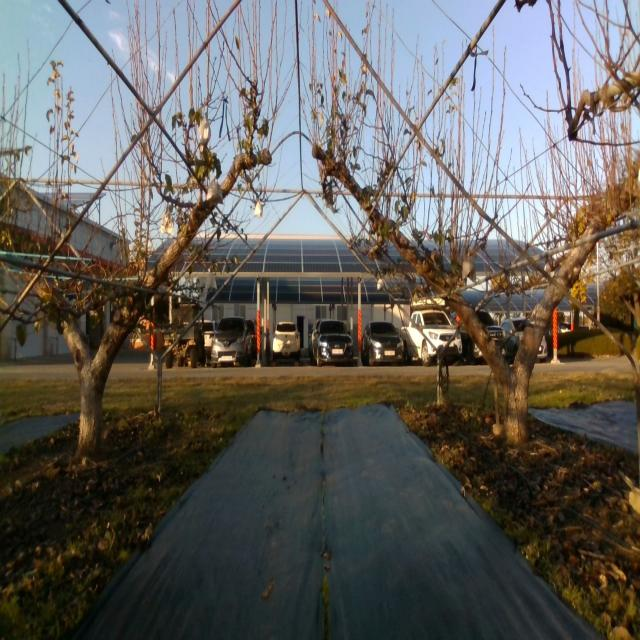pearbags: (206, 180, 224, 204), (198, 117, 212, 145), (161, 210, 174, 237), (463, 259, 476, 283)
